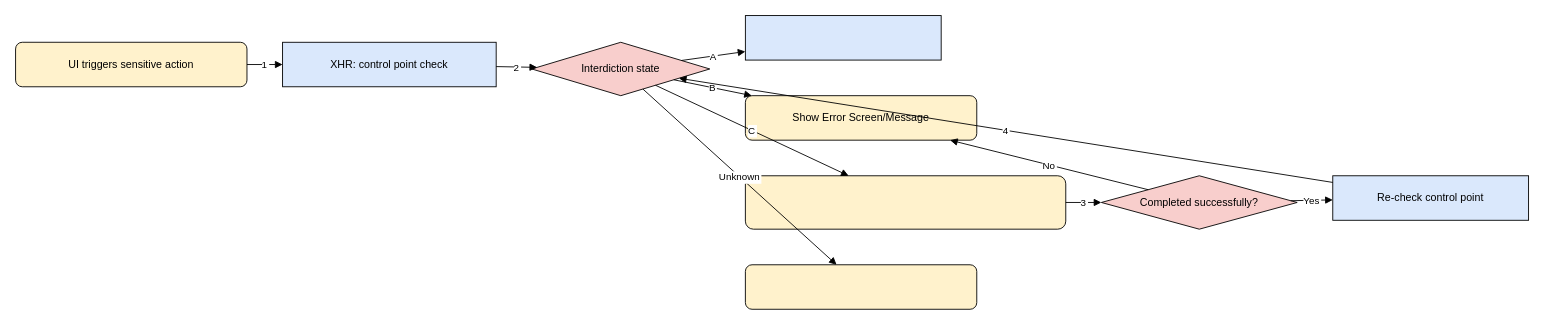
Image size: 1544x325. Some labels were removed from this diagram. The shapes that lost their labels are listed below. From the top down, each one's centre as x and y in pixels, then its label:
pixel 842 37: Continue original flow
pixel 905 202: Show Interdiction Screen (OTP/KYC/Consent)
pixel 860 286: 'Unexpected state' error
